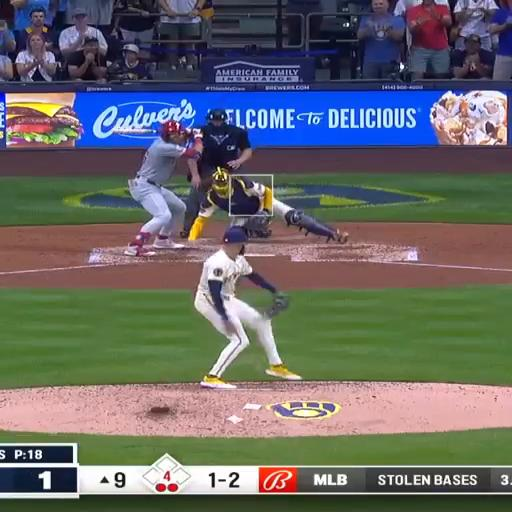bat: (112, 128, 158, 134)
